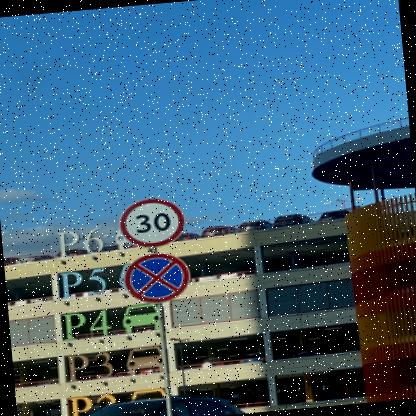speedlimit: (116, 195, 184, 248)
